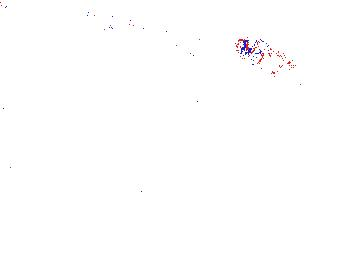X-ray fish: (234, 37, 299, 78)
glassfish: (84, 8, 214, 79)
